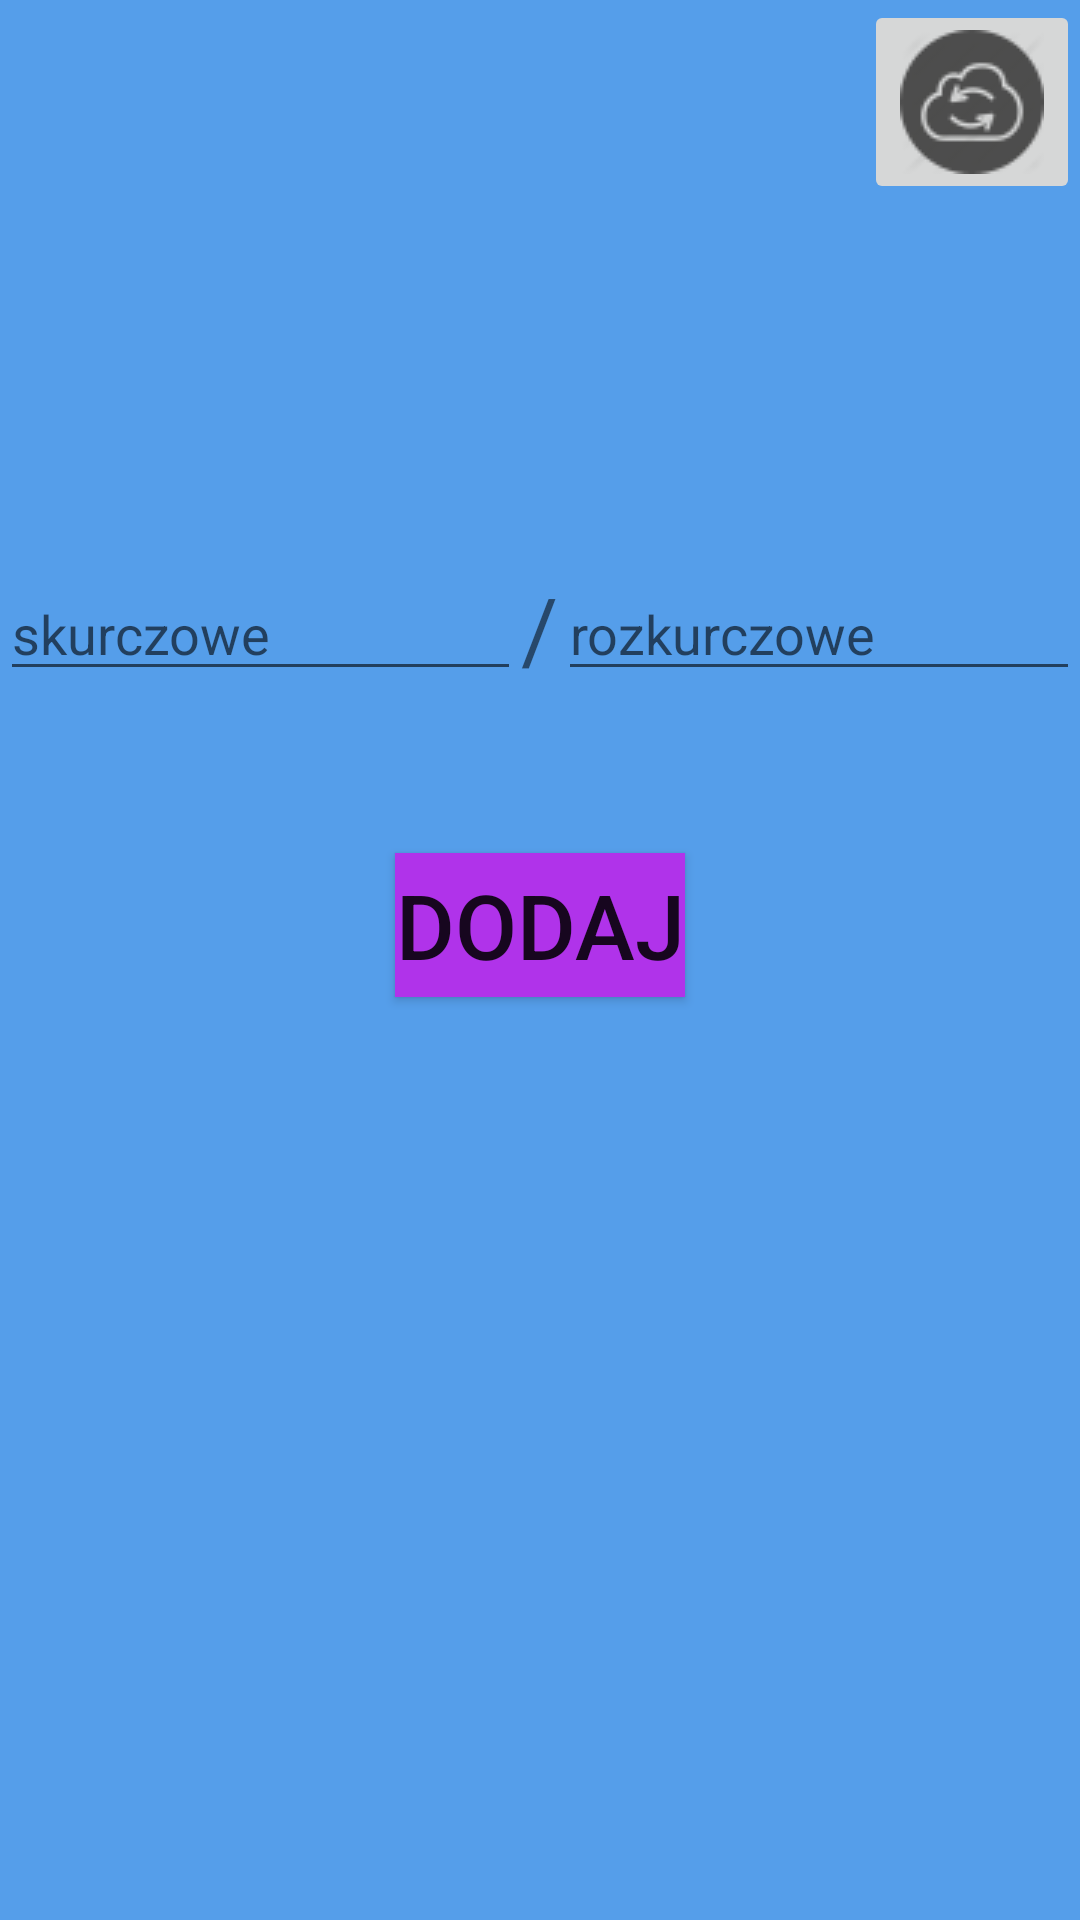

Icons on this 1080 x 1920 Android screen, each with the point to tap as point (x, y):
refresh: point (972, 102)
